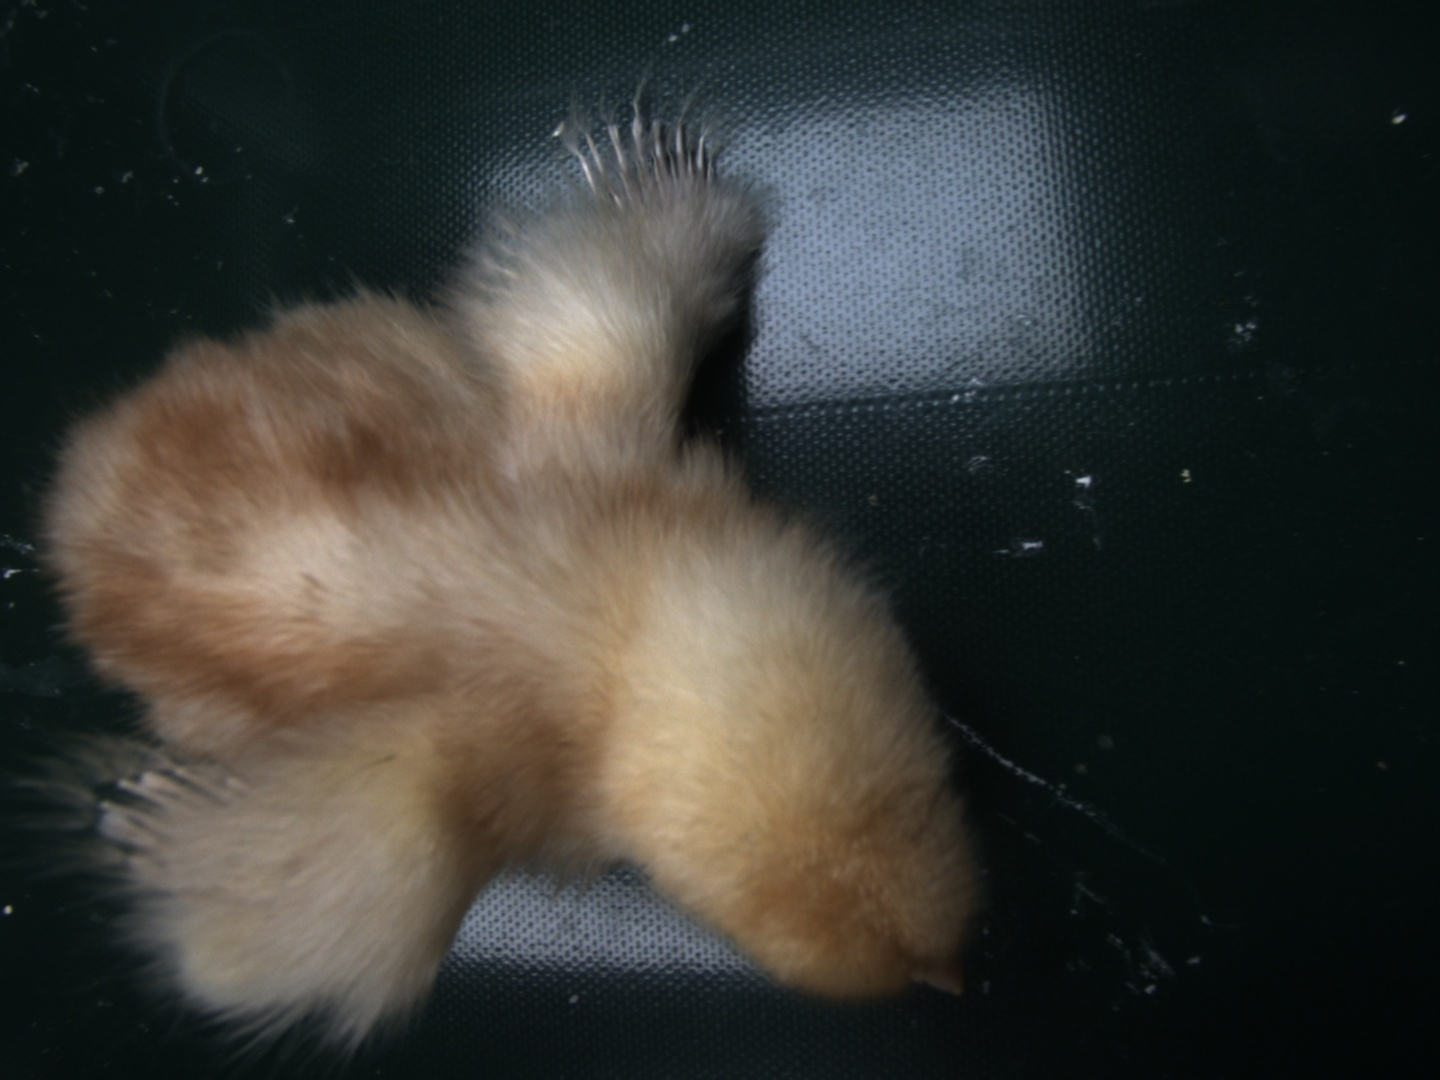female: (574, 113, 715, 214)
